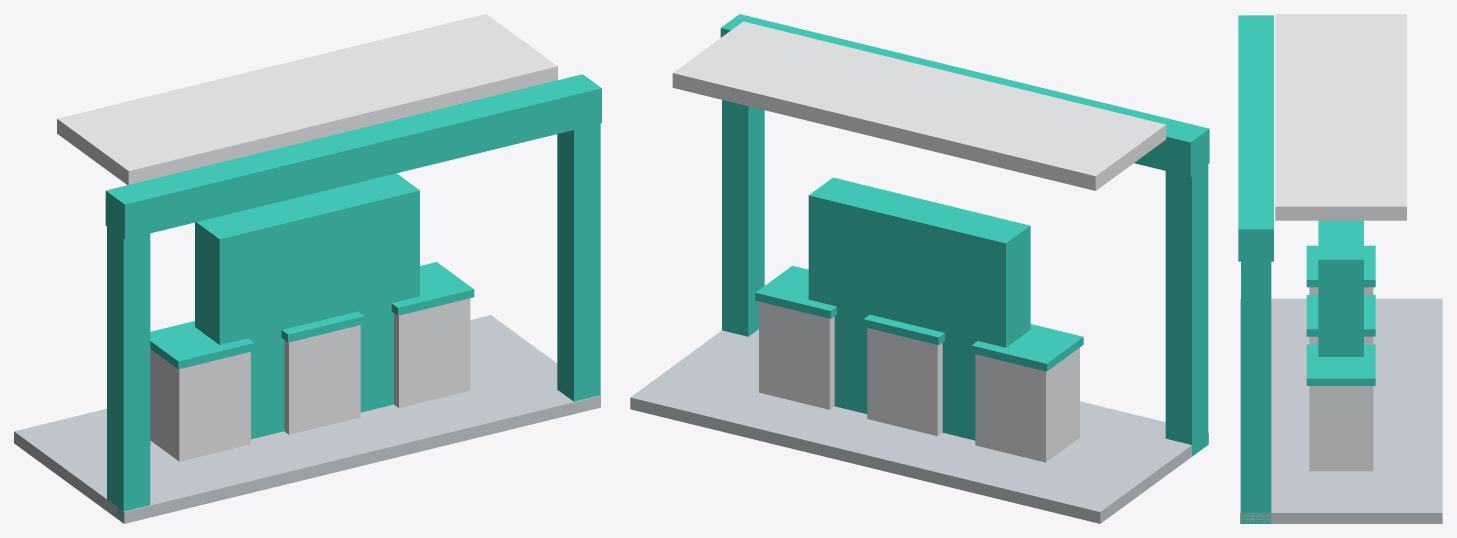
The picture shows the model from 3 angles, left to right: view 1: azimuth 30°, elevation 25°; view 2: azimuth 150°, elevation 25°; view 3: azimuth 270°, elevation 25°; orthographic projection. The views are drawn at different scales.
Parts seen in each view (by area): view 1: Exhibition Booth Concept; view 2: Exhibition Booth Concept; view 3: Exhibition Booth Concept.
Part boxes in pixels (x1=…): Exhibition Booth Concept: x1=14, y1=14, x2=601, y2=523; Exhibition Booth Concept: x1=630, y1=14, x2=1209, y2=523; Exhibition Booth Concept: x1=1238, y1=14, x2=1442, y2=523.
Size of the model in its own units: 5 by 3.34 by 2.01.
